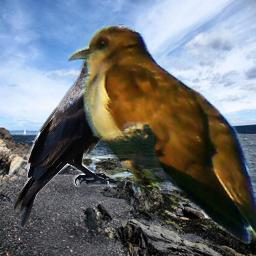Crow: (12, 24, 124, 226)
Cuckoo: (68, 25, 256, 248)
